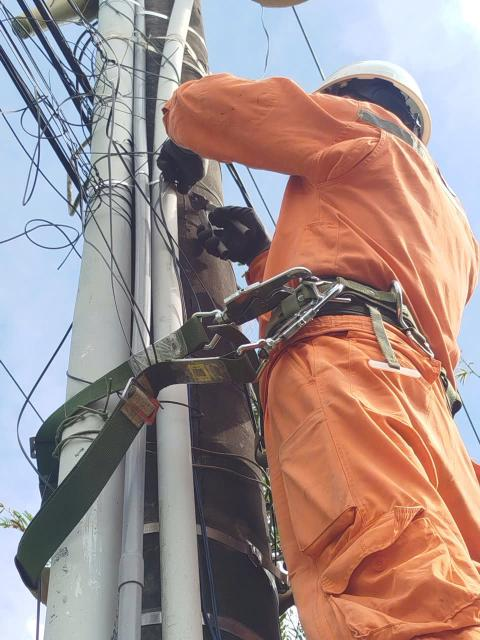gloves: (197, 196, 276, 265), (146, 133, 231, 197)
harness: (190, 253, 461, 362)
helmet: (295, 38, 468, 161)
